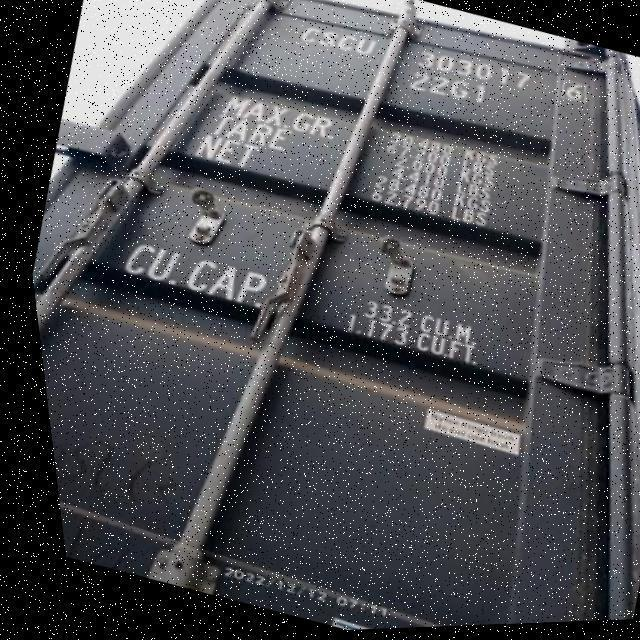container_number_h: (275, 0, 640, 190)
